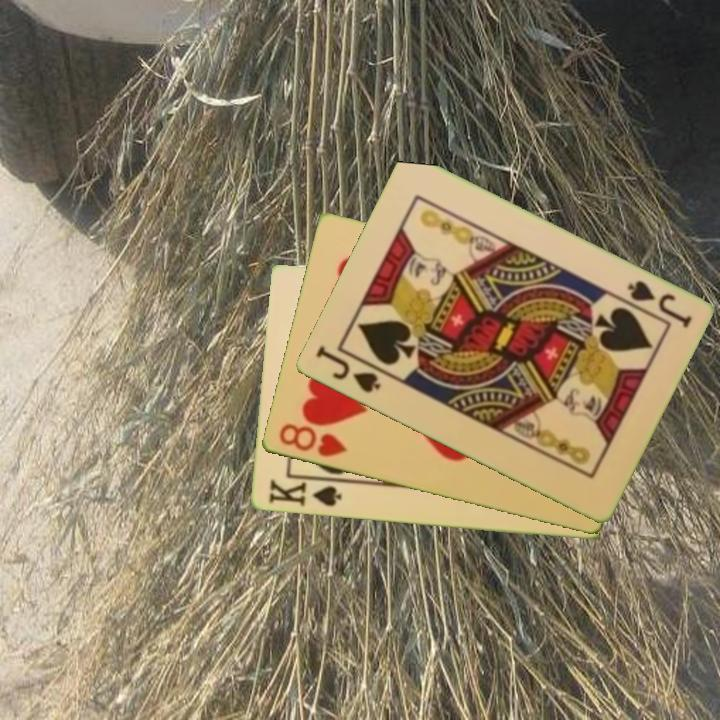8h: (275, 420, 349, 461)
Js: (311, 342, 383, 396), (623, 277, 694, 331)
Ks: (265, 475, 346, 510)
